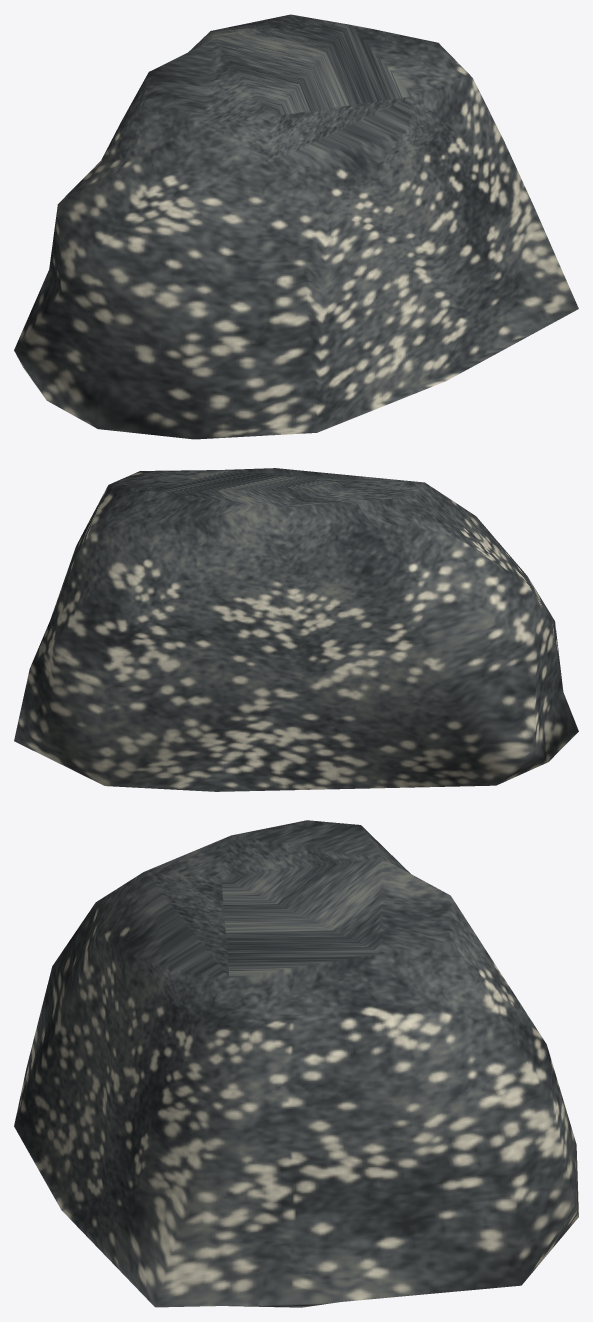
Rendered from rock_beach_barnacle_a_lod2.glb.
3 views of the same model, one above another, from view 1: azimuth 30°, elevation 25°; view 2: azimuth 150°, elevation 25°; view 3: azimuth 270°, elevation 25° (orthographic). The views are drawn at different scales.
Visible parts, largest first — view 1: rock_beach_barnacle_a; view 2: rock_beach_barnacle_a; view 3: rock_beach_barnacle_a.
Boxes of the visible parts, x1,y1,x2,y2 form: rock_beach_barnacle_a: (14, 14, 578, 439); rock_beach_barnacle_a: (14, 468, 578, 791); rock_beach_barnacle_a: (14, 820, 578, 1307).
Size of the model in its own units: 1.86 by 0.9242 by 1.58.
1 material, 1 textured.
